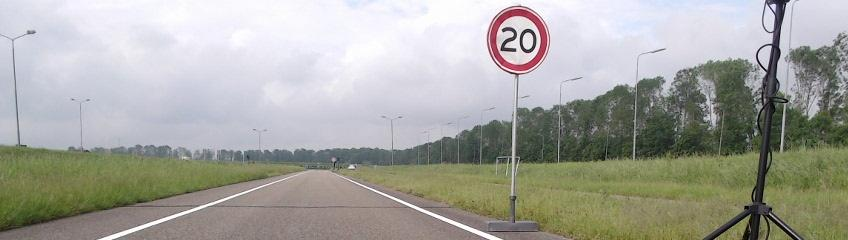Speed-limit-20km-h-: (486, 6, 550, 74)
